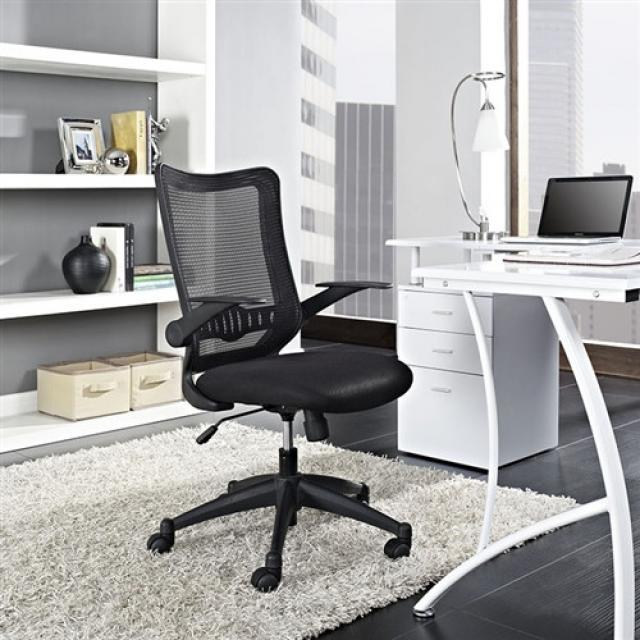chair: (142, 132, 436, 586)
